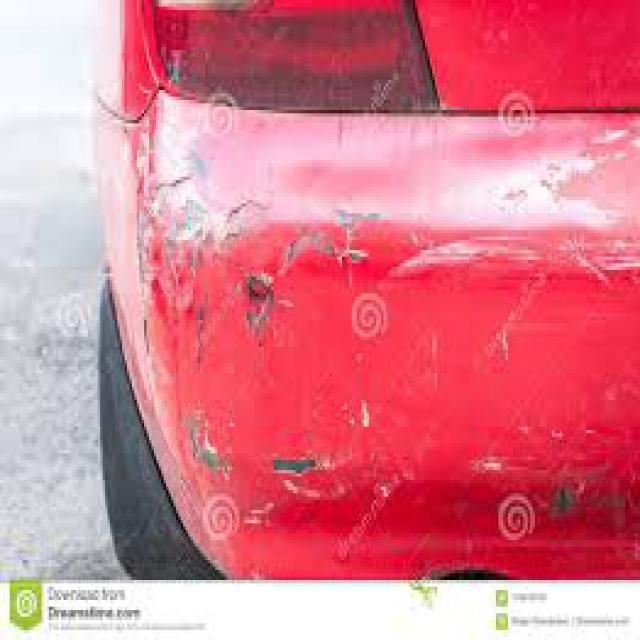rear-bumper-dent: (68, 0, 638, 587)
